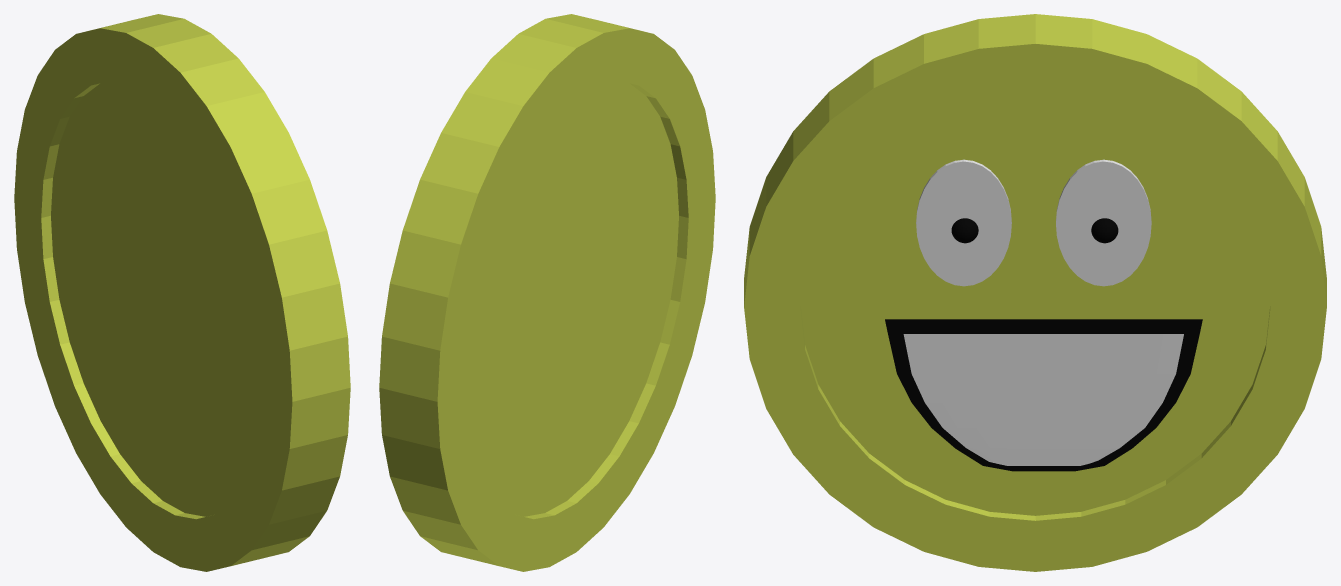
The model's file is Modelo_moeda_amarela.fbx.
The picture shows the model from 3 angles, left to right: view 1: azimuth 30°, elevation 25°; view 2: azimuth 150°, elevation 25°; view 3: azimuth 270°, elevation 25°; orthographic projection. The views are drawn at different scales.
Parts seen in each view (by area): view 1: Moeda; view 2: Moeda; view 3: Moeda.
Part boxes in pixels (x1,y1,x2,y2): Moeda: (14,14,350,571); Moeda: (379,14,715,571); Moeda: (744,14,1326,571).
Size of the model in its own units: 25.61 by 200 by 200.
